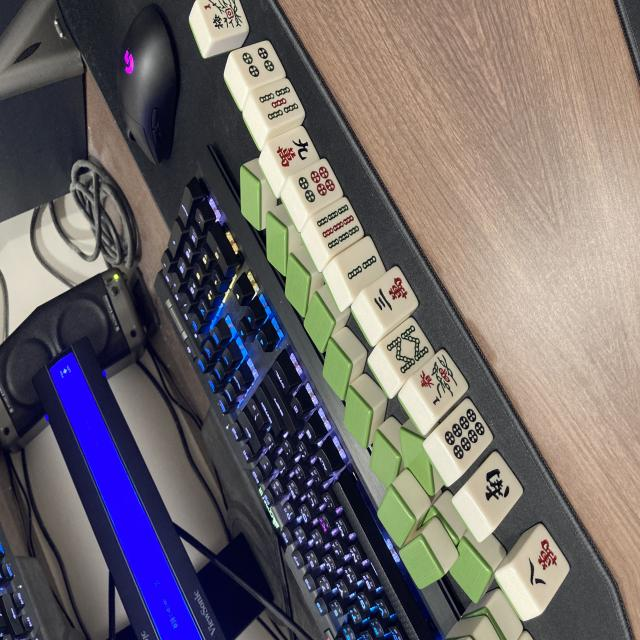f1: (194, 0, 250, 40)
ff1: (405, 348, 470, 416)
m3: (357, 265, 419, 329)
m8: (510, 522, 575, 608)
m9: (264, 124, 320, 179)
s2: (331, 236, 389, 298)
s5: (252, 79, 306, 130)
s8: (377, 316, 438, 382)
s9: (306, 199, 366, 259)
south: (462, 450, 526, 527)
t4: (231, 40, 286, 91)
t6: (287, 158, 347, 215)
t8: (431, 398, 495, 471)
